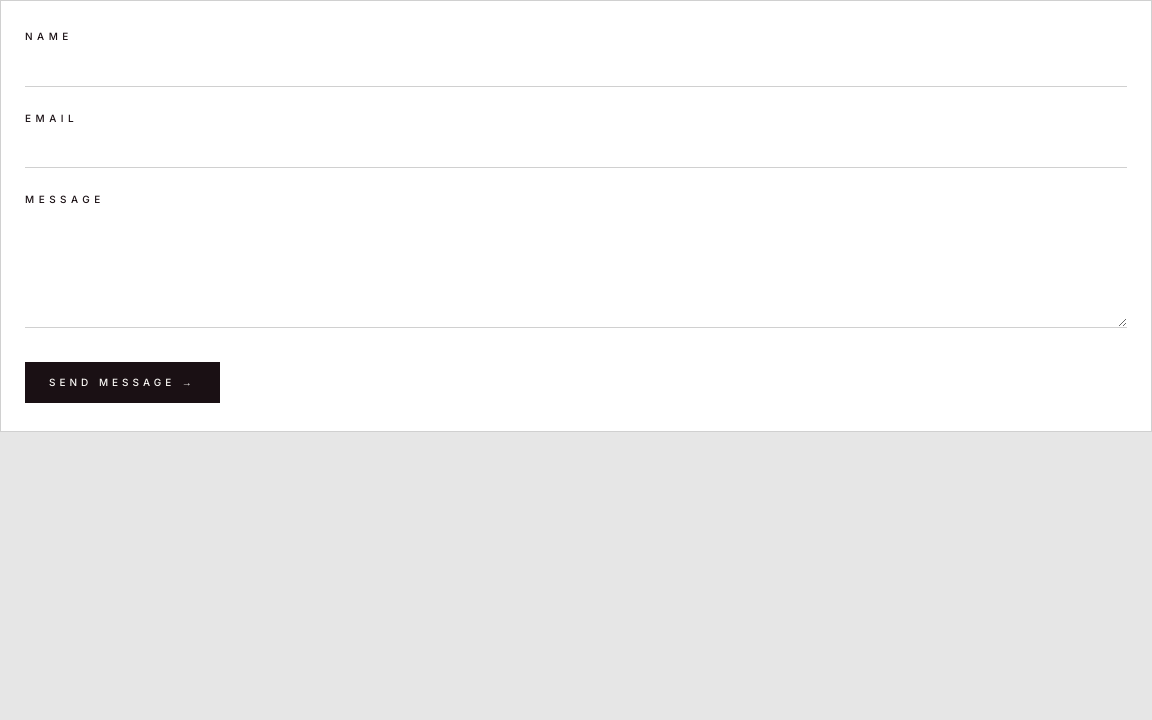
Scenario: InquireForm › shows validation error when name is empty on submit
What coordinates should you click on to do the following:
click the button "Send Message →"
I would click on:
 (122, 382)
Its box is [25, 362, 220, 402].
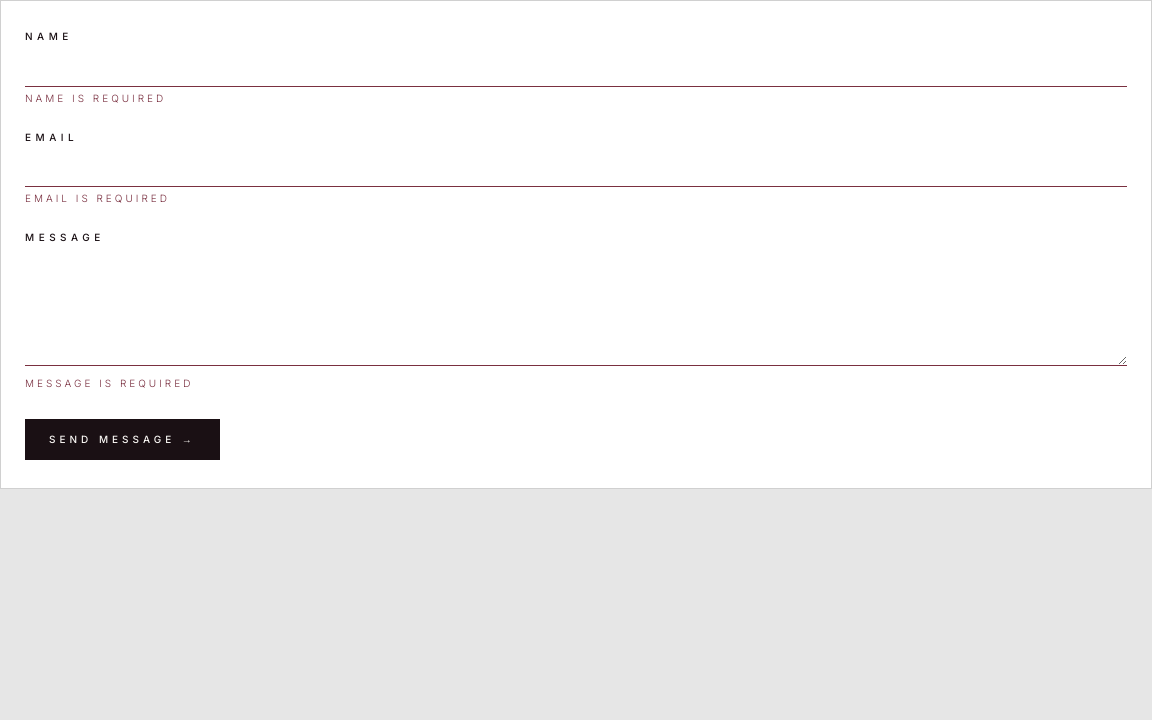
Check: the text "Name is required" is shown, box [25, 92, 166, 104]
